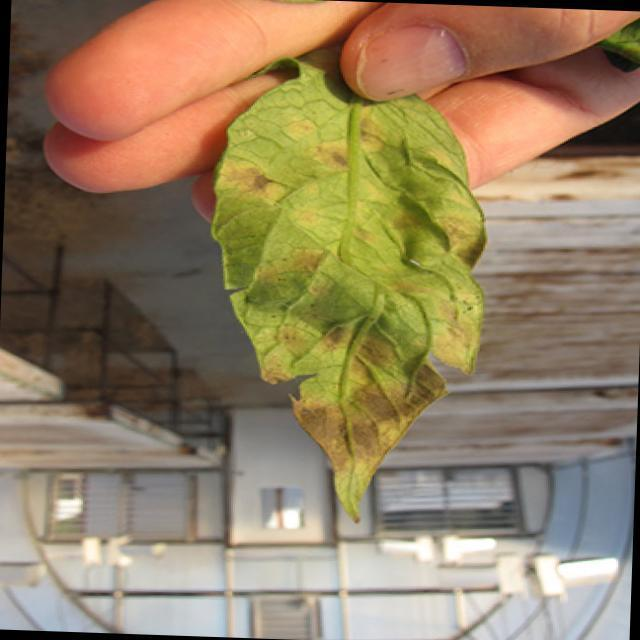Mosaic Virus: (204, 76, 490, 519)
